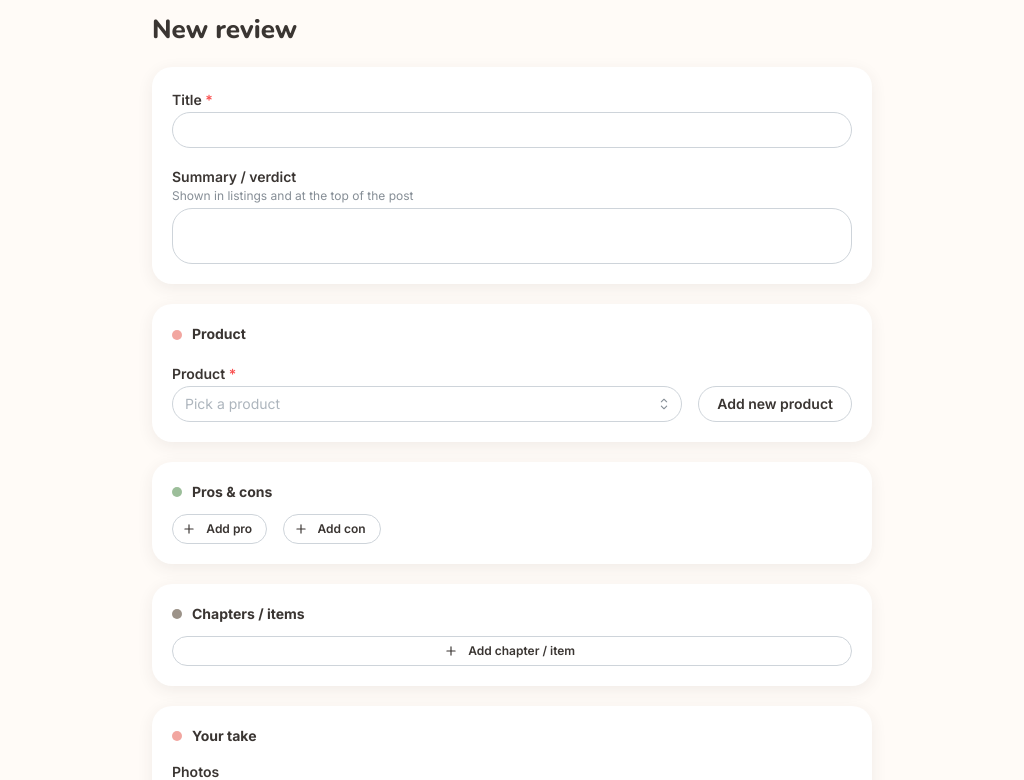
Test: PostForm › filters the product list by name only, not the product type suffix
The image size is (1024, 780).
Type "restaurant" into the dropdown with placeholder "Pick a product" at (427, 404), box [172,386,682,422]
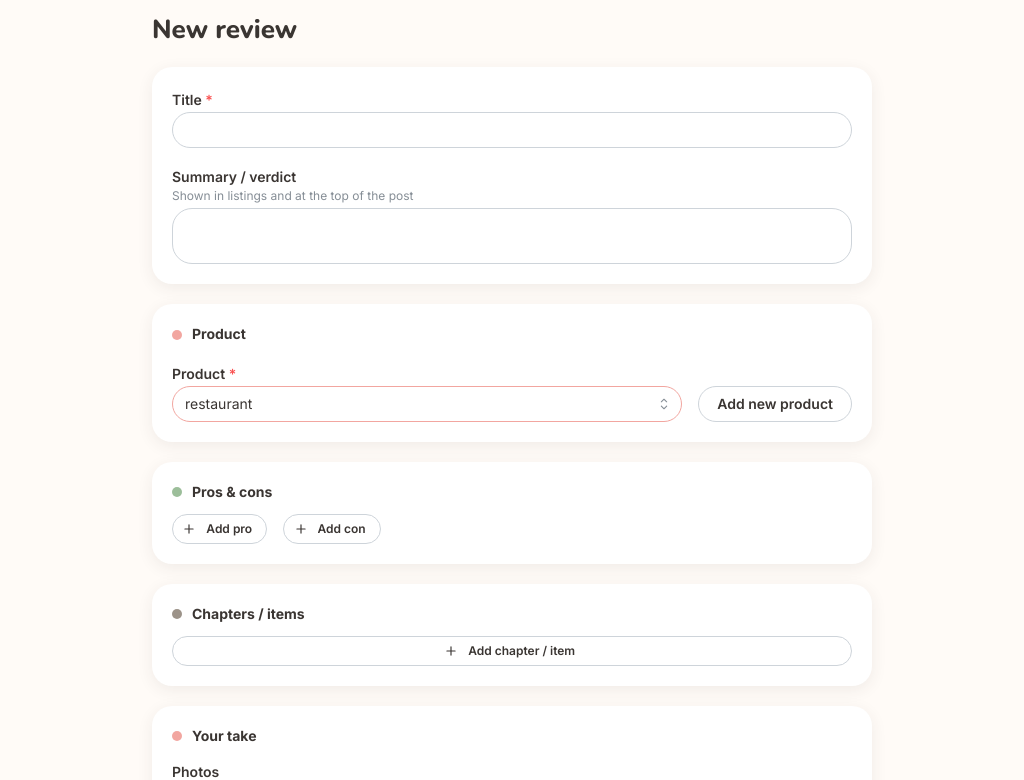
Expected: the option "Corner Bistro" is not shown
Replace the text in the dropdown with placeholder "Pick a product" with "corner" at (427, 404), box [172,386,682,422]
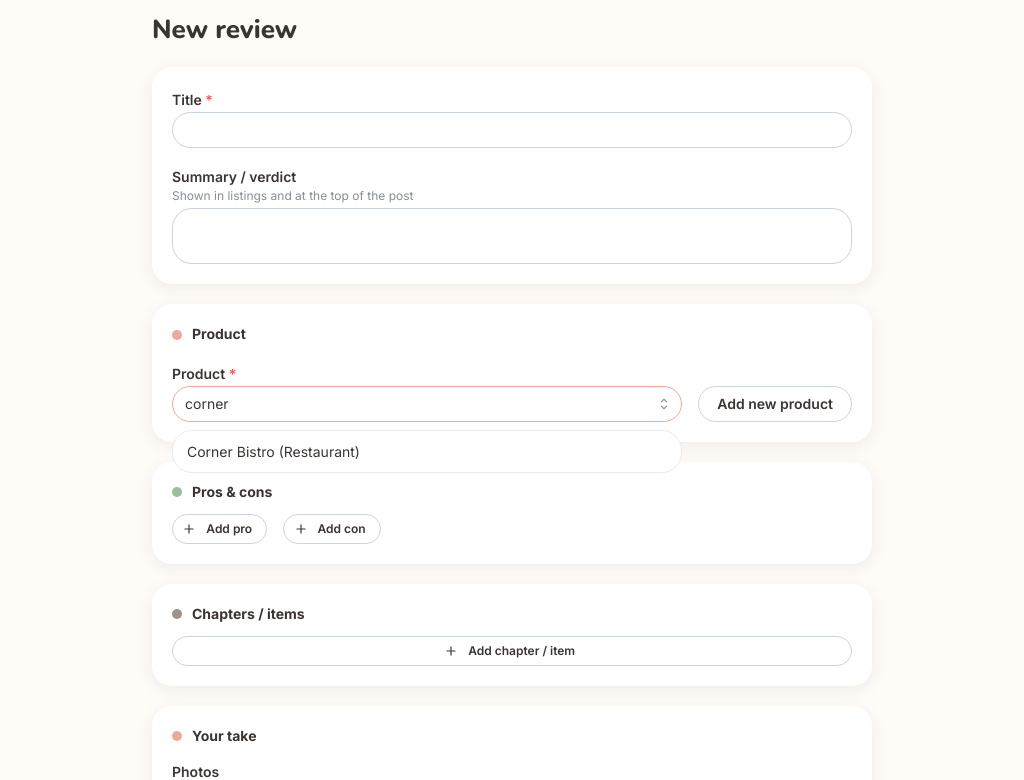
Expected: the option "Corner Bistro (Restaurant)" is shown, [187,442,360,460]
Expected: the option "Project Hail Mary" is gone
